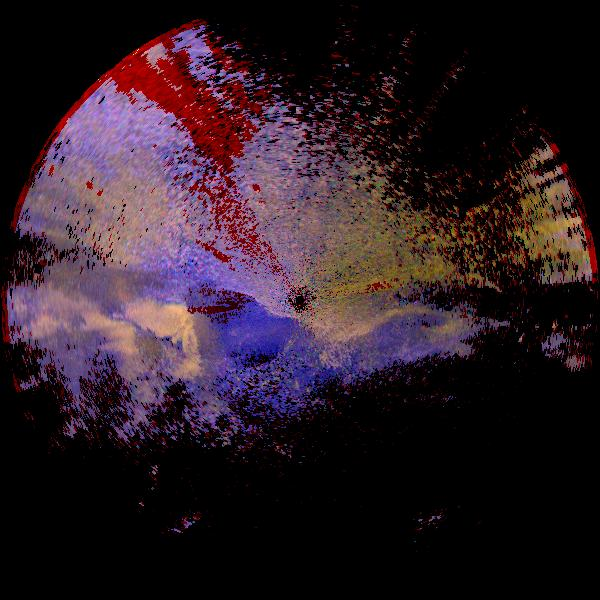roost: (64, 261, 244, 441)
